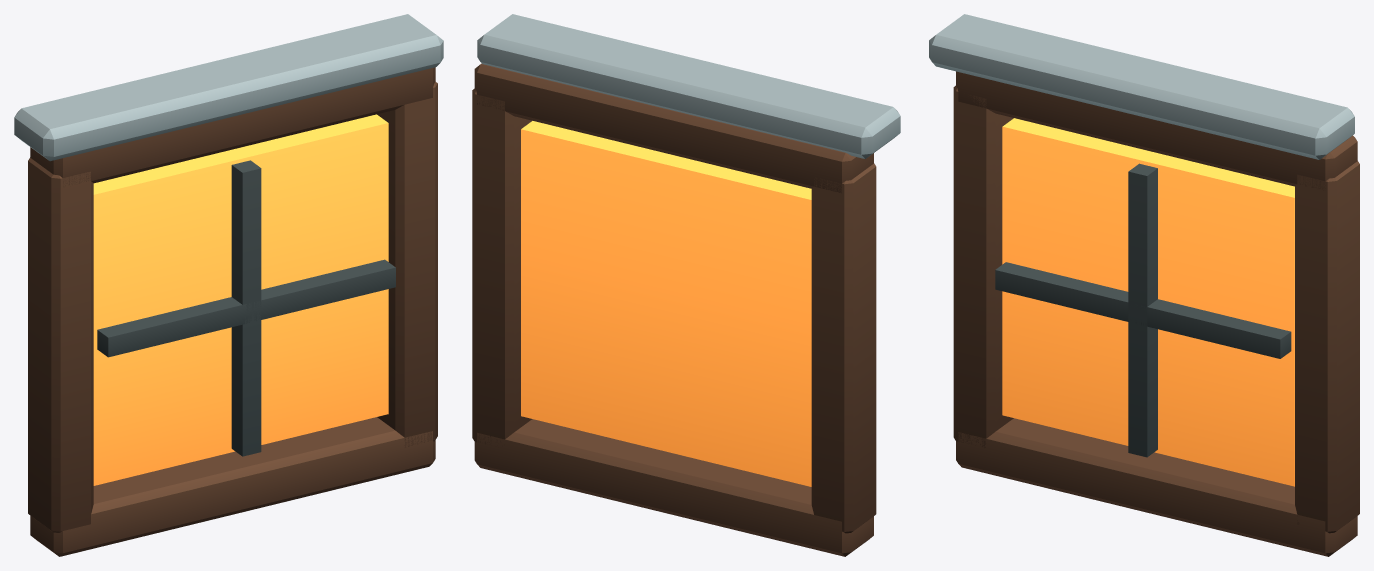
The model's file is snowhouse-window.glb.
3 views of the same model, side by side, from view 1: azimuth 30°, elevation 25°; view 2: azimuth 150°, elevation 25°; view 3: azimuth 330°, elevation 25° (orthographic).
Parts seen in each view (by area): view 1: WorldSnowhouseWindowR13_R13 Snowhouse Window Timber_Batch, WorldSnowhouseWindowR13_R13 Snowhouse Warm Glass_Batch, WorldSnowhouseWindowR13_R13 Snowhouse Window Snow_Batch, WorldSnowhouseWindowR13_R13 Snowhouse Window Iron_Batch; view 2: WorldSnowhouseWindowR13_R13 Snowhouse Warm Glass_Batch, WorldSnowhouseWindowR13_R13 Snowhouse Window Timber_Batch, WorldSnowhouseWindowR13_R13 Snowhouse Window Snow_Batch; view 3: WorldSnowhouseWindowR13_R13 Snowhouse Window Timber_Batch, WorldSnowhouseWindowR13_R13 Snowhouse Warm Glass_Batch, WorldSnowhouseWindowR13_R13 Snowhouse Window Snow_Batch, WorldSnowhouseWindowR13_R13 Snowhouse Window Iron_Batch.
Part boxes in pixels (x1,y1,x2,y2): WorldSnowhouseWindowR13_R13 Snowhouse Window Timber_Batch: [28, 67, 437, 556]; WorldSnowhouseWindowR13_R13 Snowhouse Warm Glass_Batch: [93, 114, 388, 485]; WorldSnowhouseWindowR13_R13 Snowhouse Window Snow_Batch: [14, 14, 443, 161]; WorldSnowhouseWindowR13_R13 Snowhouse Window Iron_Batch: [97, 160, 395, 456]; WorldSnowhouseWindowR13_R13 Snowhouse Warm Glass_Batch: [521, 121, 811, 486]; WorldSnowhouseWindowR13_R13 Snowhouse Window Timber_Batch: [472, 63, 876, 556]; WorldSnowhouseWindowR13_R13 Snowhouse Window Snow_Batch: [477, 14, 900, 158]; WorldSnowhouseWindowR13_R13 Snowhouse Window Timber_Batch: [953, 71, 1359, 556]; WorldSnowhouseWindowR13_R13 Snowhouse Warm Glass_Batch: [1002, 118, 1294, 486]; WorldSnowhouseWindowR13_R13 Snowhouse Window Snow_Batch: [929, 14, 1354, 159]; WorldSnowhouseWindowR13_R13 Snowhouse Window Iron_Batch: [995, 163, 1291, 457].
Bounding box in the file's own units: 1.71 × 1.78 × 0.285.
